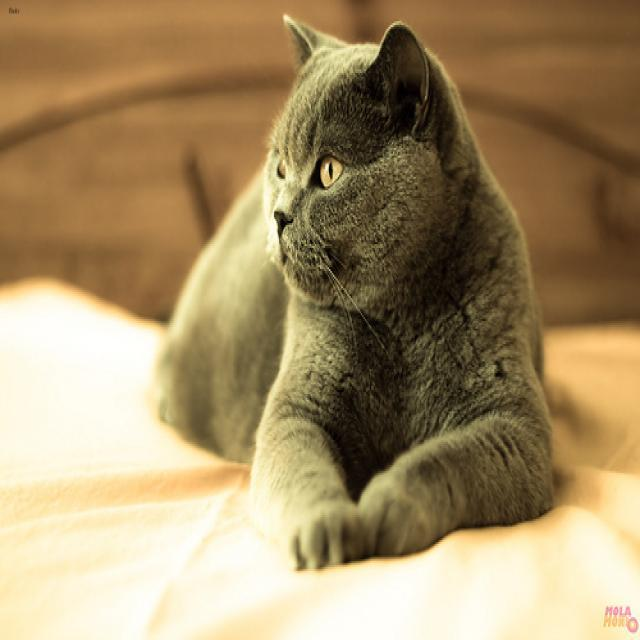British_Shorthair: (259, 12, 438, 304)
